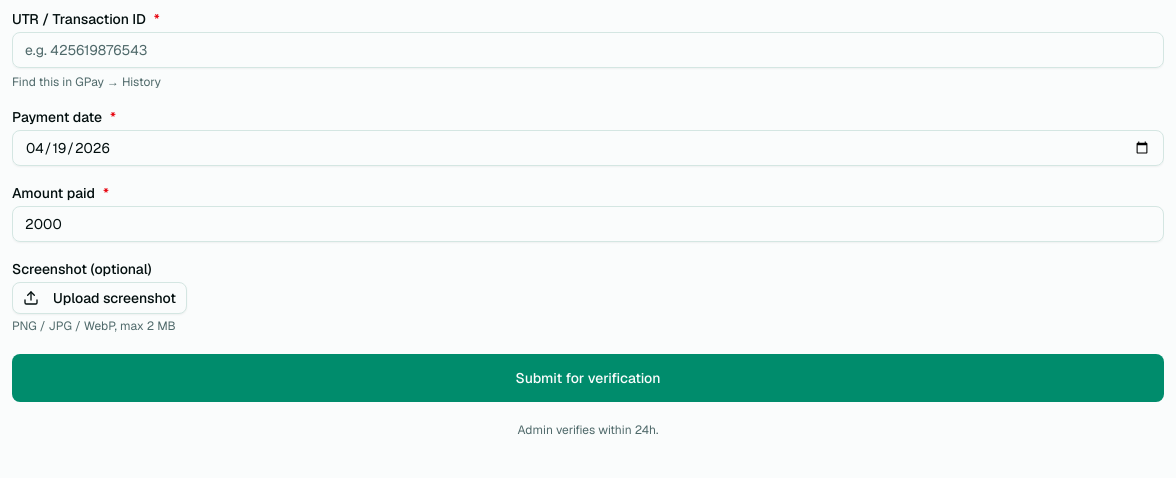
Test: PaymentClaimForm › shows validation error when UTR has invalid characters
In the field with placeholder "e.g. 425619876543": (588, 50) [12, 32, 1164, 68], type "UTR-INVALID!!!"
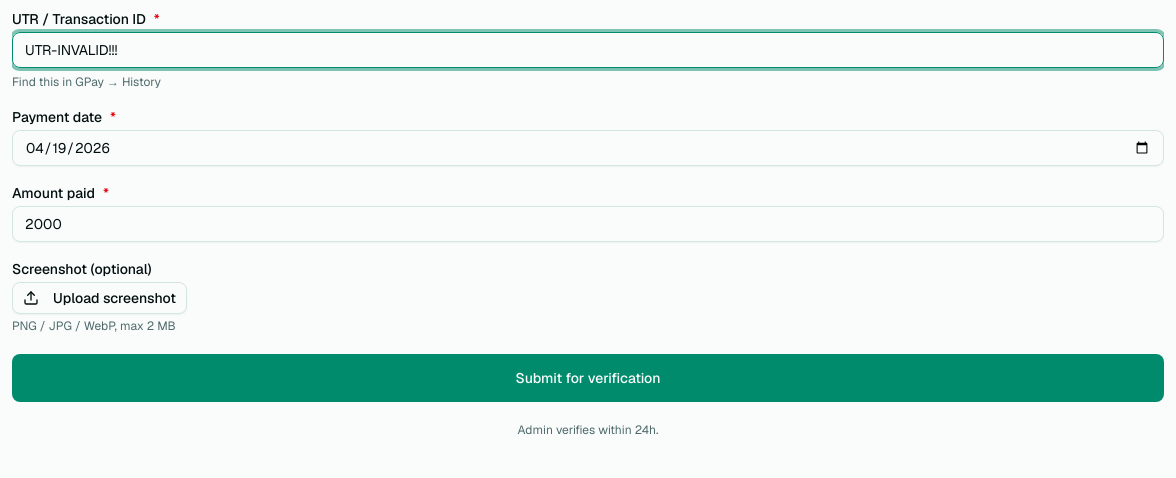
Click the button "Submit for verification": (588, 378) [12, 354, 1164, 402]
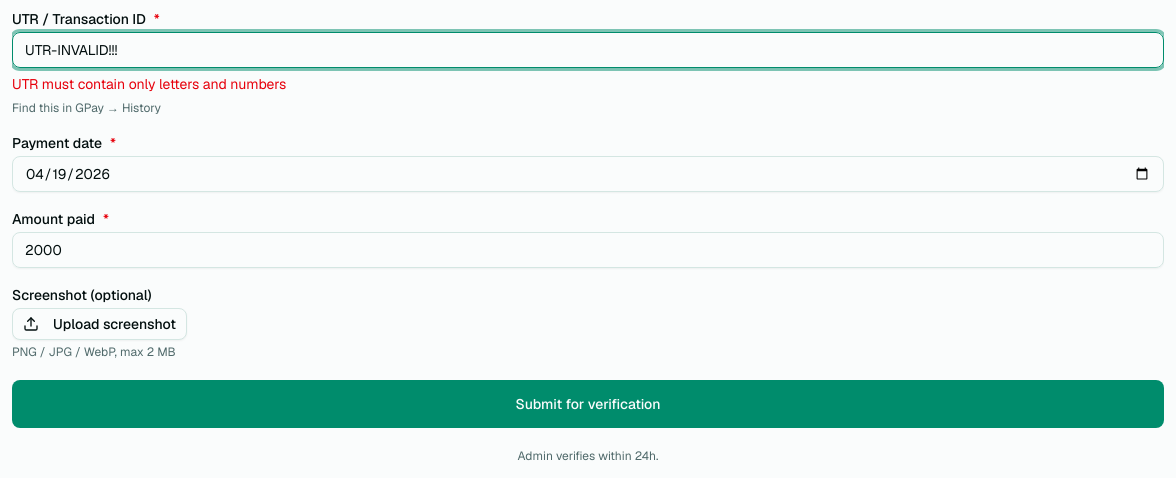
expect the text "UTR must contain only letters and numbers" is shown: met, box [12, 75, 286, 93]
